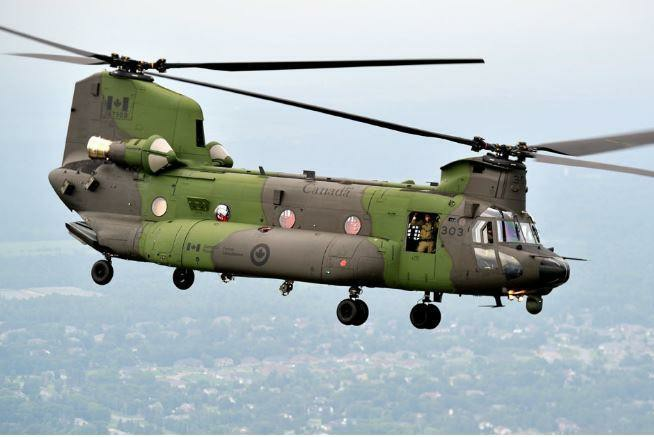chinook: (48, 39, 587, 330)
